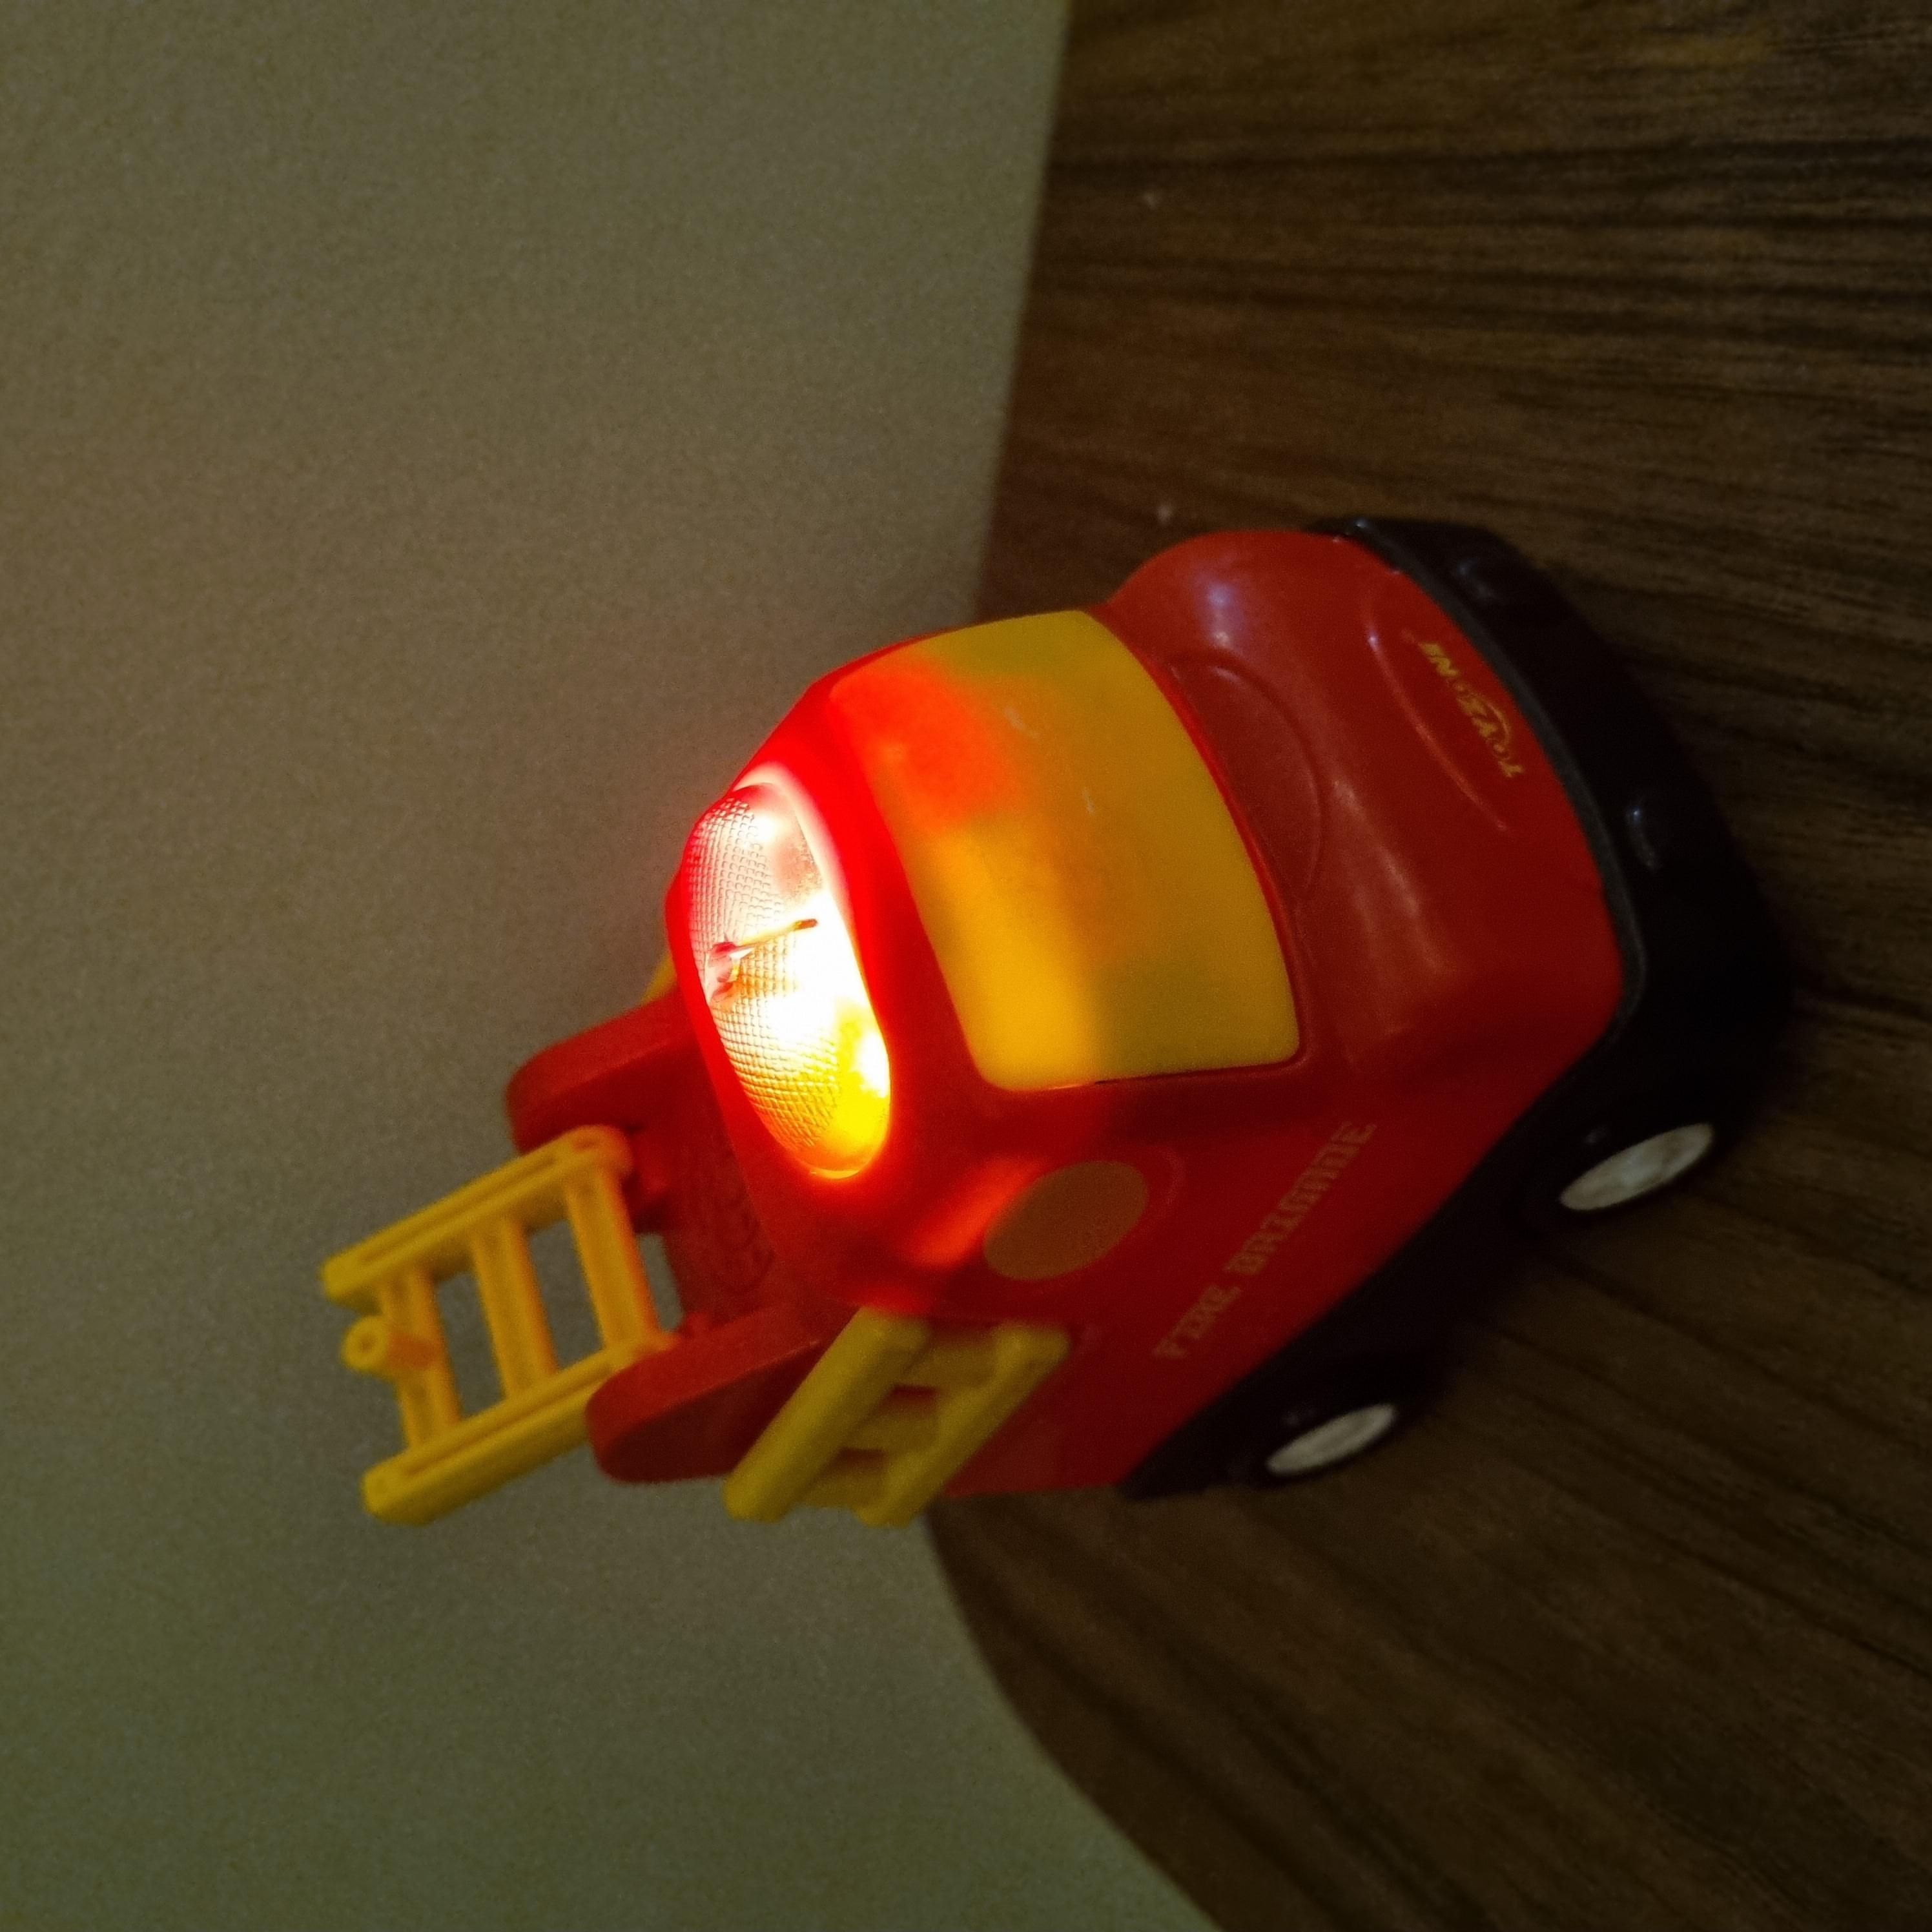firetruck_on: (410, 324, 1401, 1753)
